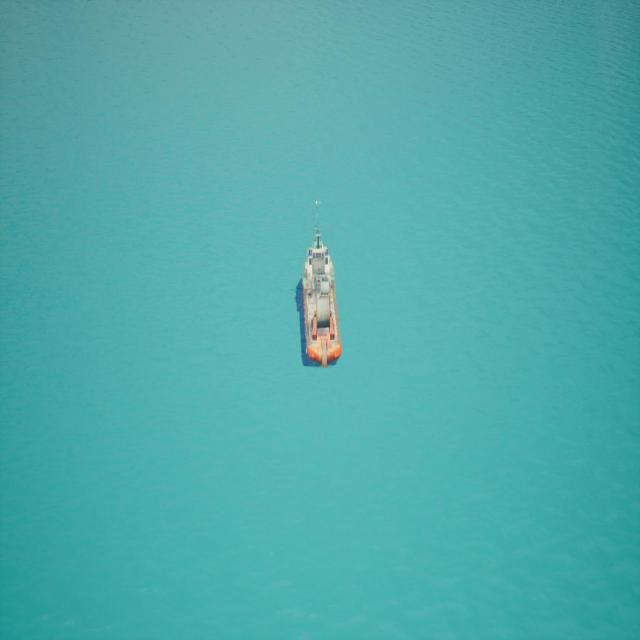tug boat: (296, 202, 344, 371)
